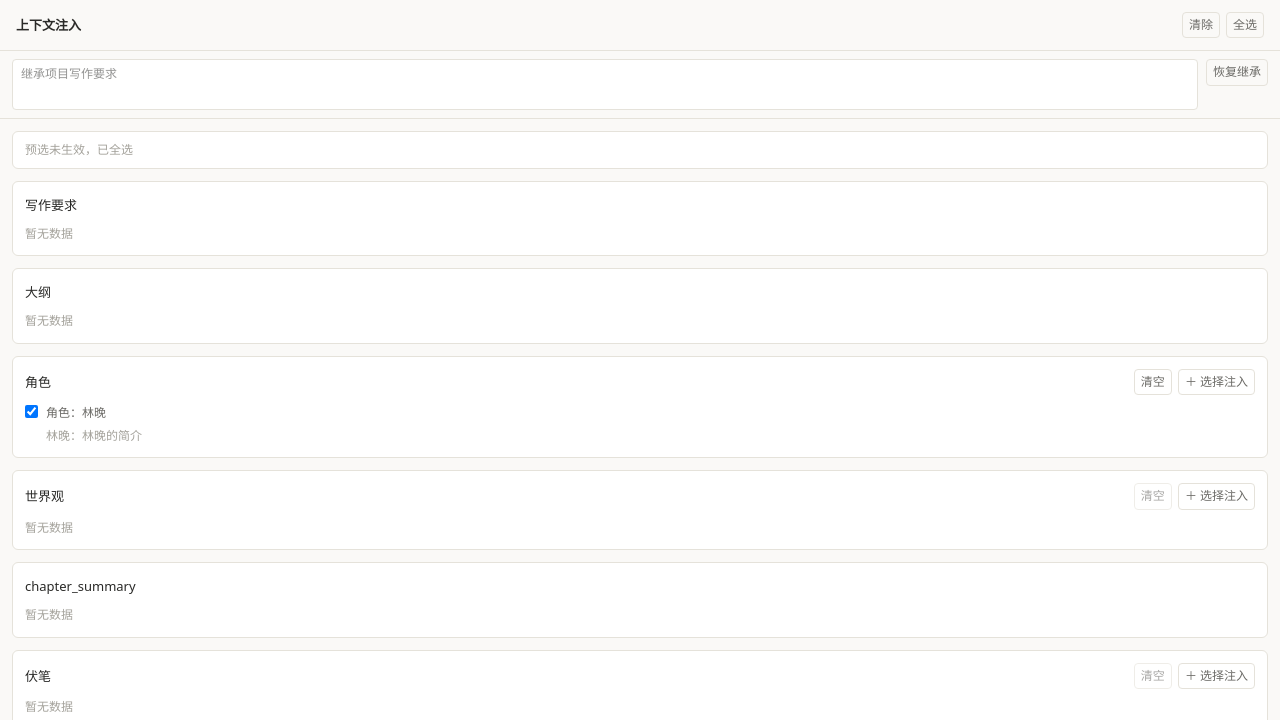
it: ContextPanel — 分组「＋ 选择注入」搜索选择器多选追加（#704） › 搜索框过滤选项
This screenshot has width=1280, height=720.
Expected: the element with test id "context-block-character_setting" is shown, 12,356 -> 1268,458
Click the 1st button "＋ 选择注入". click: {"x": 1216, "y": 382}
box: 1178,369 -> 1255,395
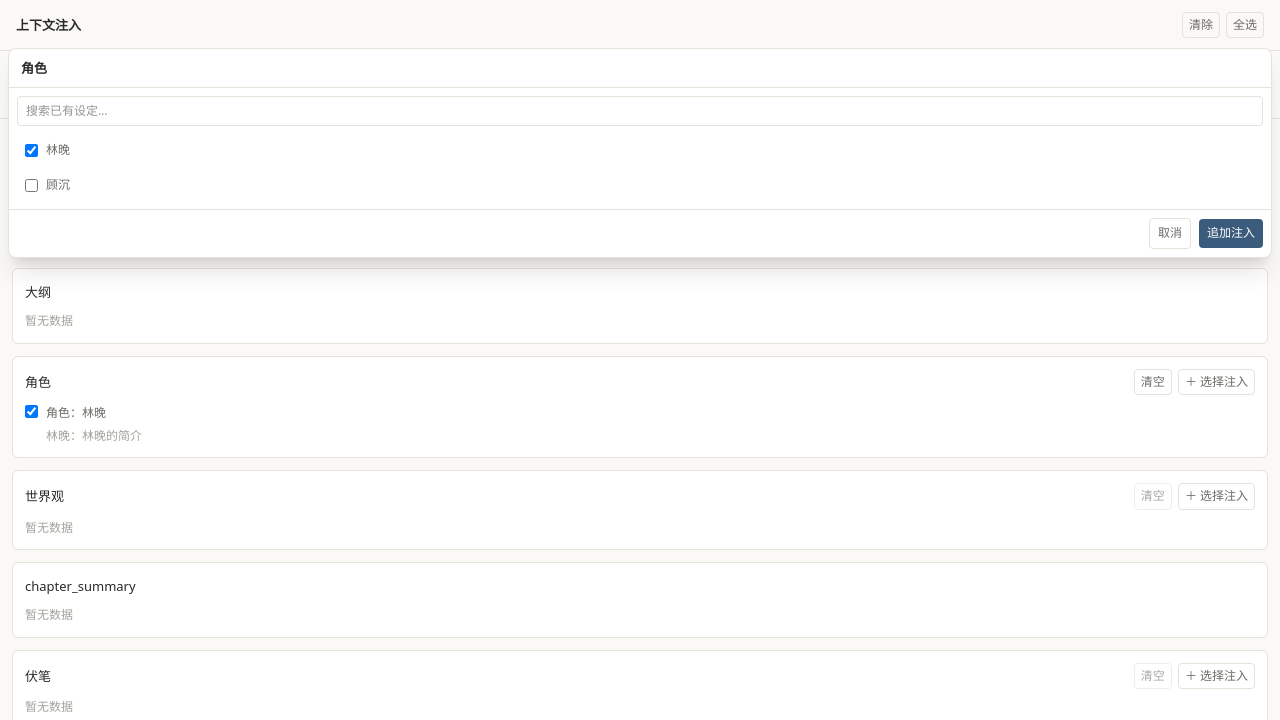
Expected: the element with test id "context-picker" is shown, 8,48 -> 1272,258
Type "林" into the field with test id "context-picker-search". click: {"x": 640, "y": 111}
box: 17,96 -> 1263,126
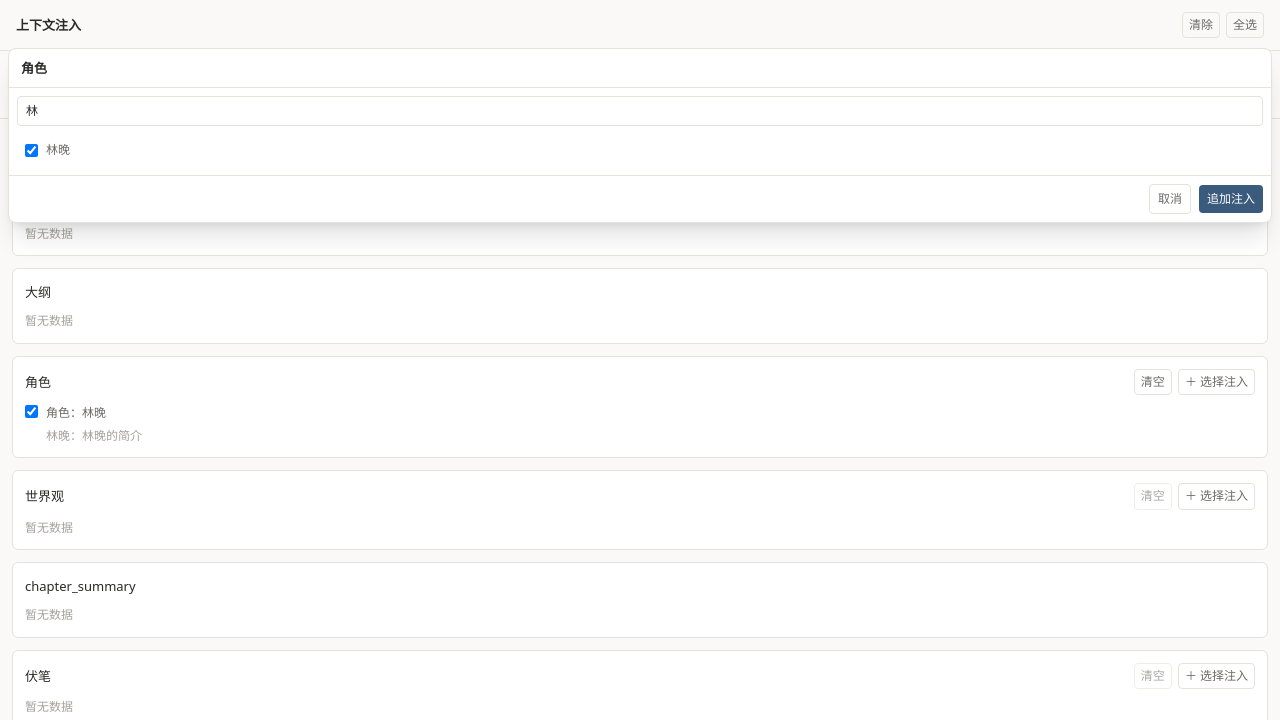
Expected: the text "林晚" is shown, 46,142 -> 70,158
Expected: the text "顾沉" is gone
